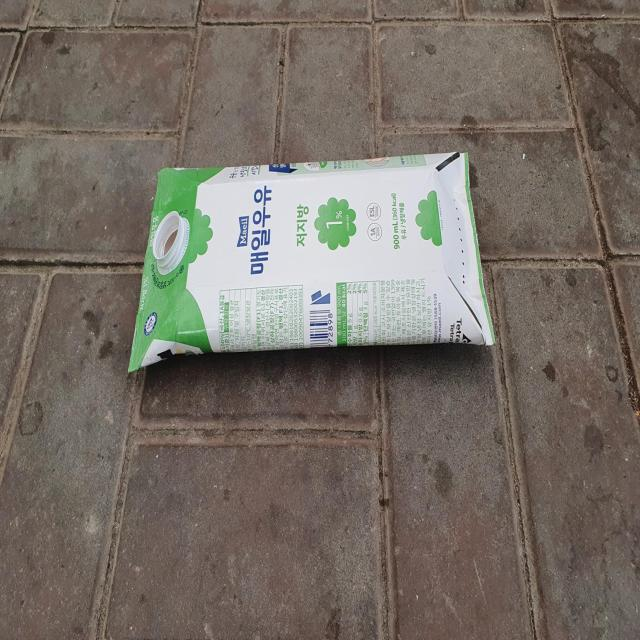paperpack: (128, 151, 496, 371)
